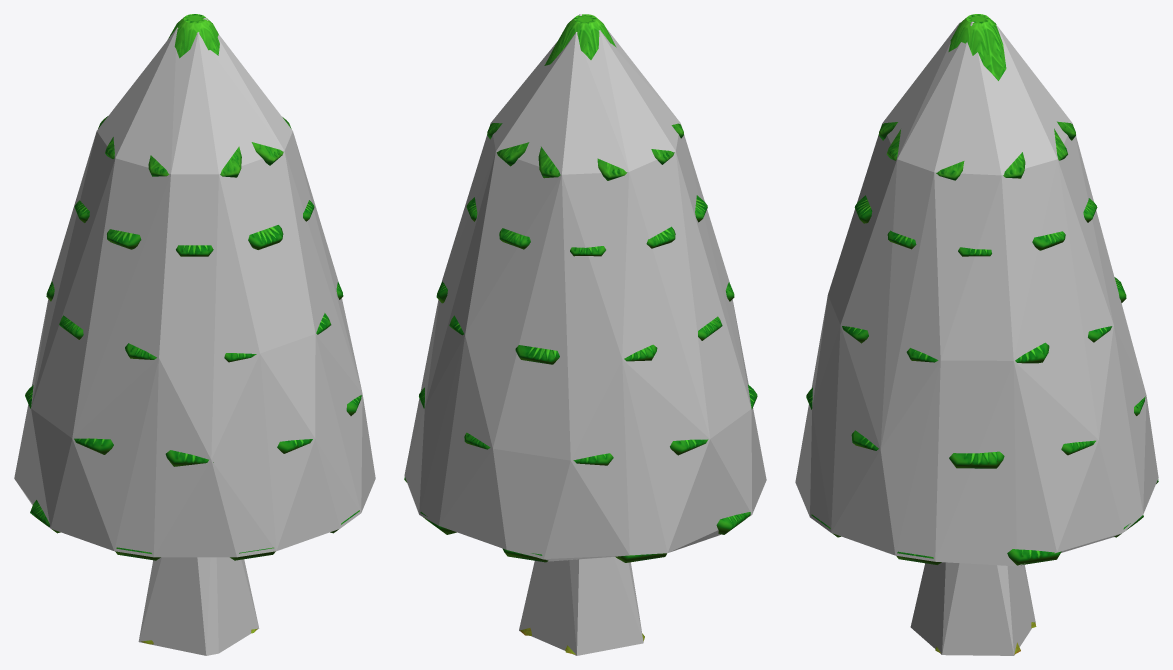
Rendered from SM_Tree05.fbx.
The picture shows the model from 3 angles, left to right: view 1: azimuth 30°, elevation 25°; view 2: azimuth 150°, elevation 25°; view 3: azimuth 270°, elevation 25°; orthographic projection.
Parts seen in each view (by area): view 1: SM_Tree05_ConvexHulls, SM_Tree05; view 2: SM_Tree05_ConvexHulls, SM_Tree05; view 3: SM_Tree05_ConvexHulls, SM_Tree05.
Part boxes in pixels (x1,y1,x2,y2): SM_Tree05_ConvexHulls: [14, 18, 375, 655]; SM_Tree05: [25, 14, 361, 644]; SM_Tree05_ConvexHulls: [404, 14, 766, 655]; SM_Tree05: [404, 14, 757, 654]; SM_Tree05_ConvexHulls: [795, 21, 1158, 655]; SM_Tree05: [806, 14, 1158, 654].
Bounding box in the file's own units: 400 × 405 × 756.
2 materials, 1 textured.
